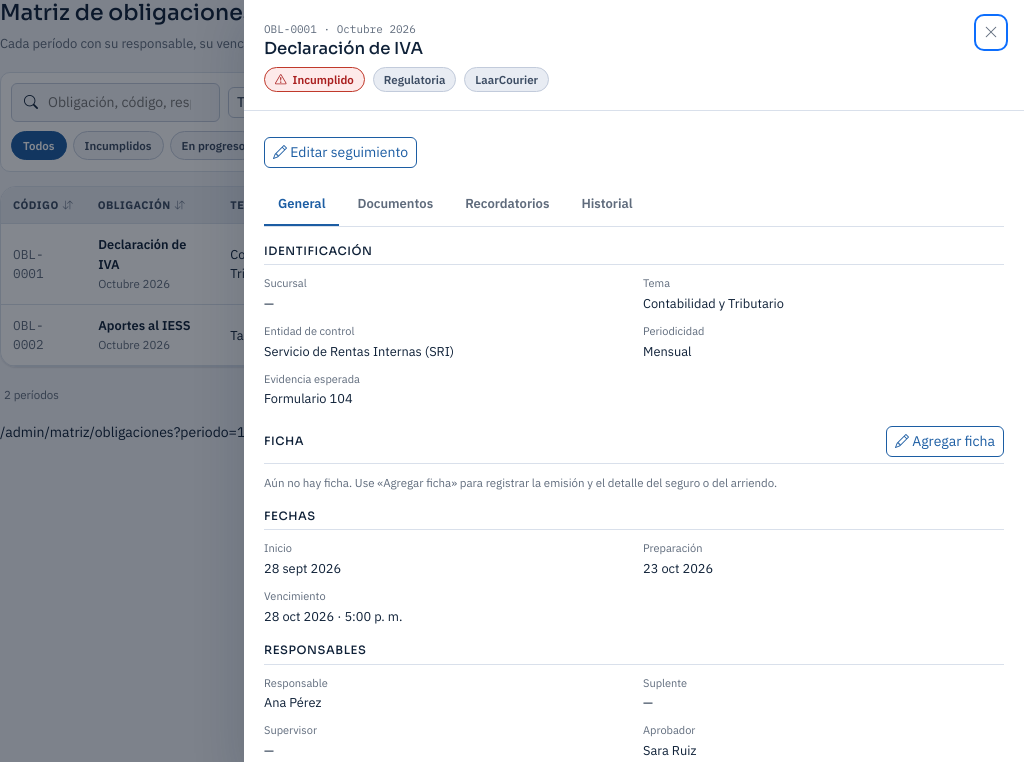
Scenario: El detalle del período (§15.4) › un historial que no carga avisa el error, no se ve vacío
Click the tab "Historial".
click(607, 205)  # box x1=567 y1=184 x2=647 y2=226
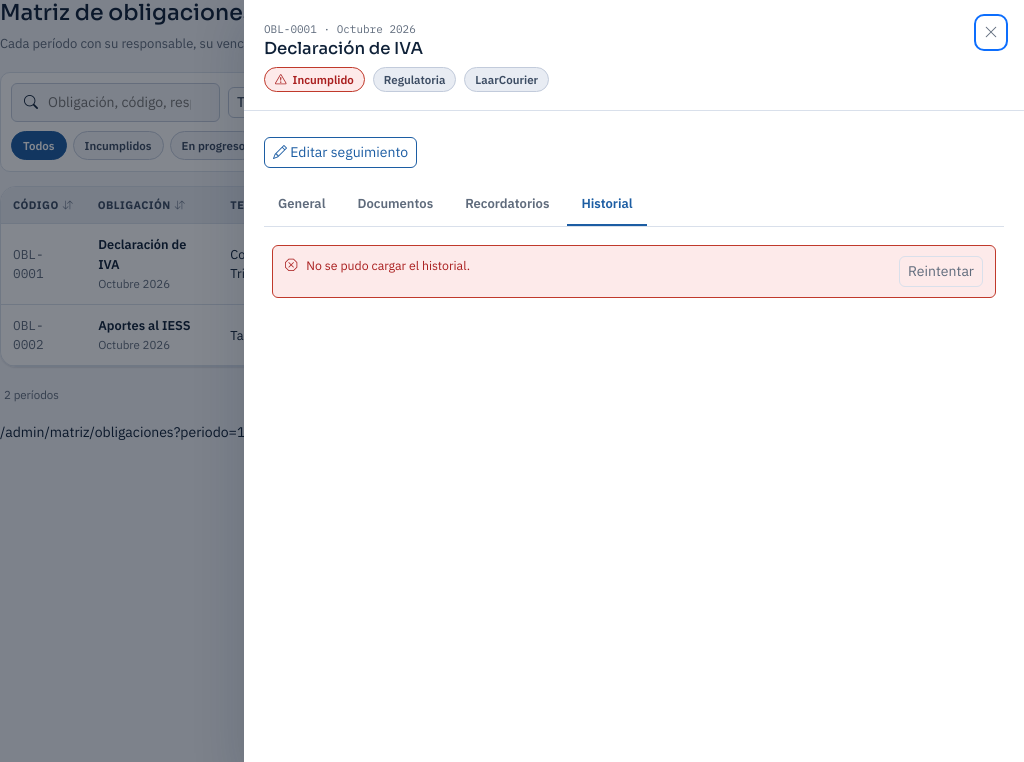
Now the text "No se pudo cargar el historial." is shown, box x1=306 y1=256 x2=470 y2=272
